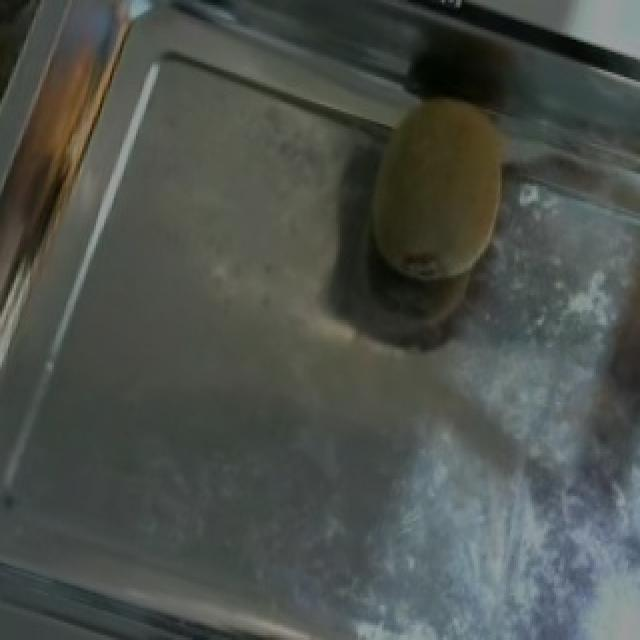Fruit: (330, 72, 544, 315)
